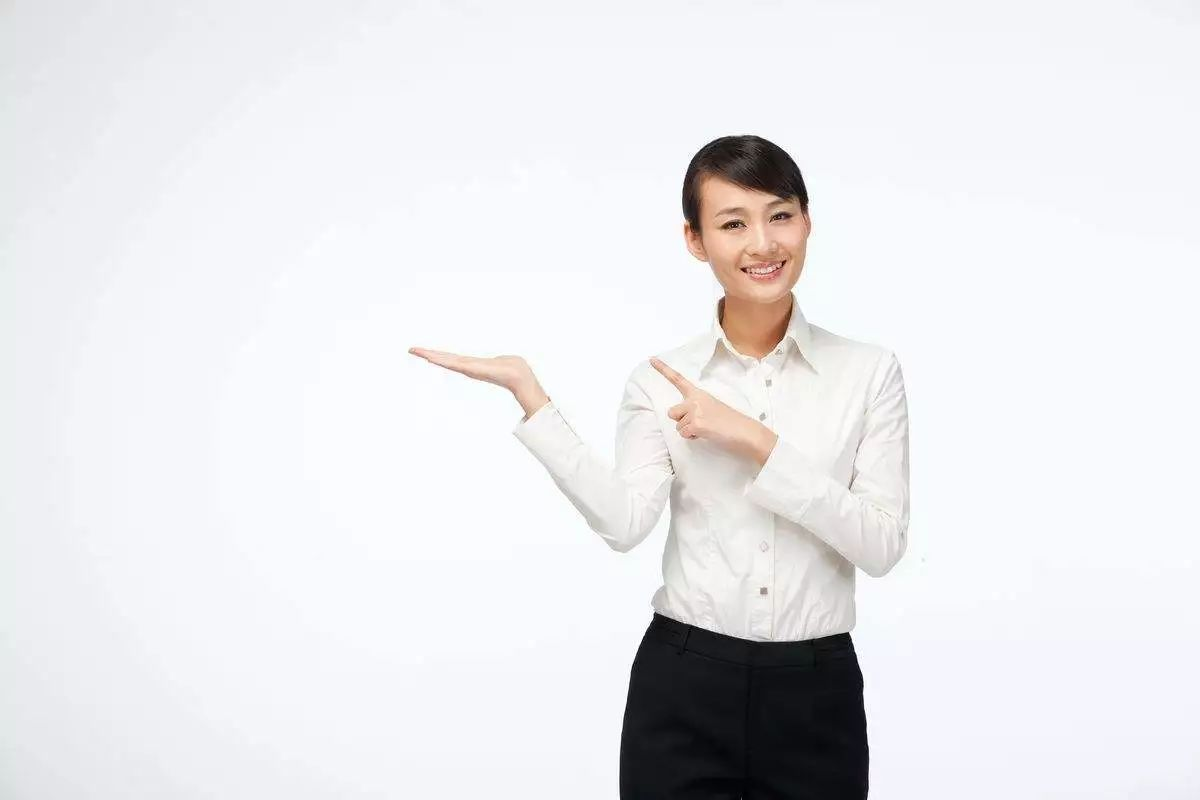hand: (653, 359, 747, 443), (409, 343, 542, 394)
